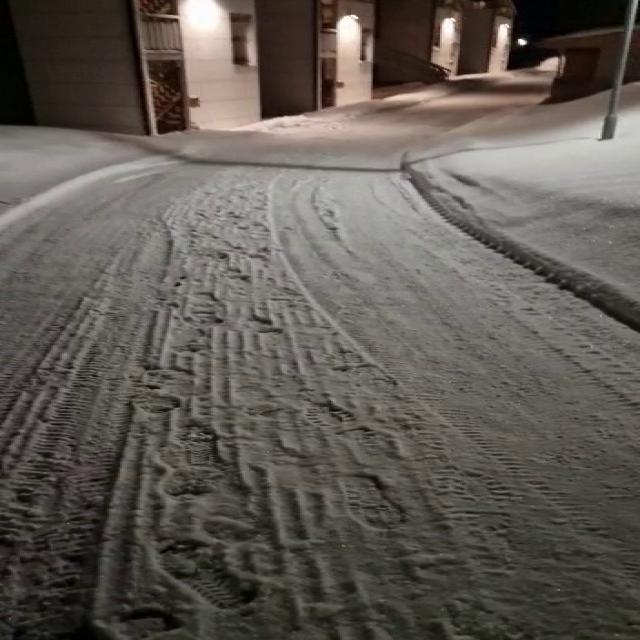path: (0, 74, 638, 640)
